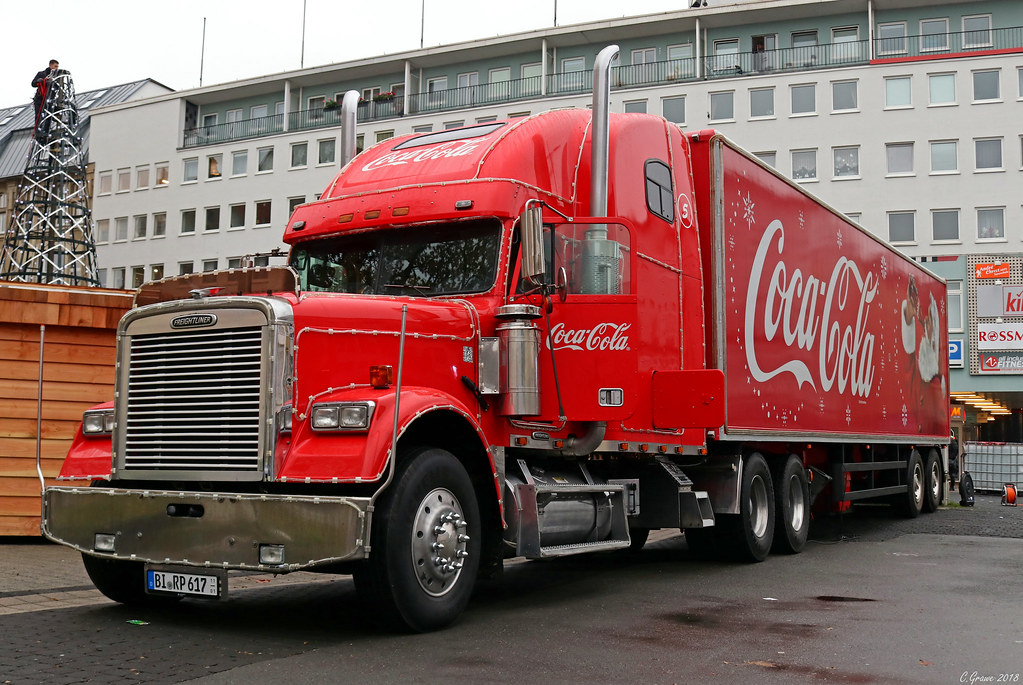truck: (41, 108, 953, 638)
